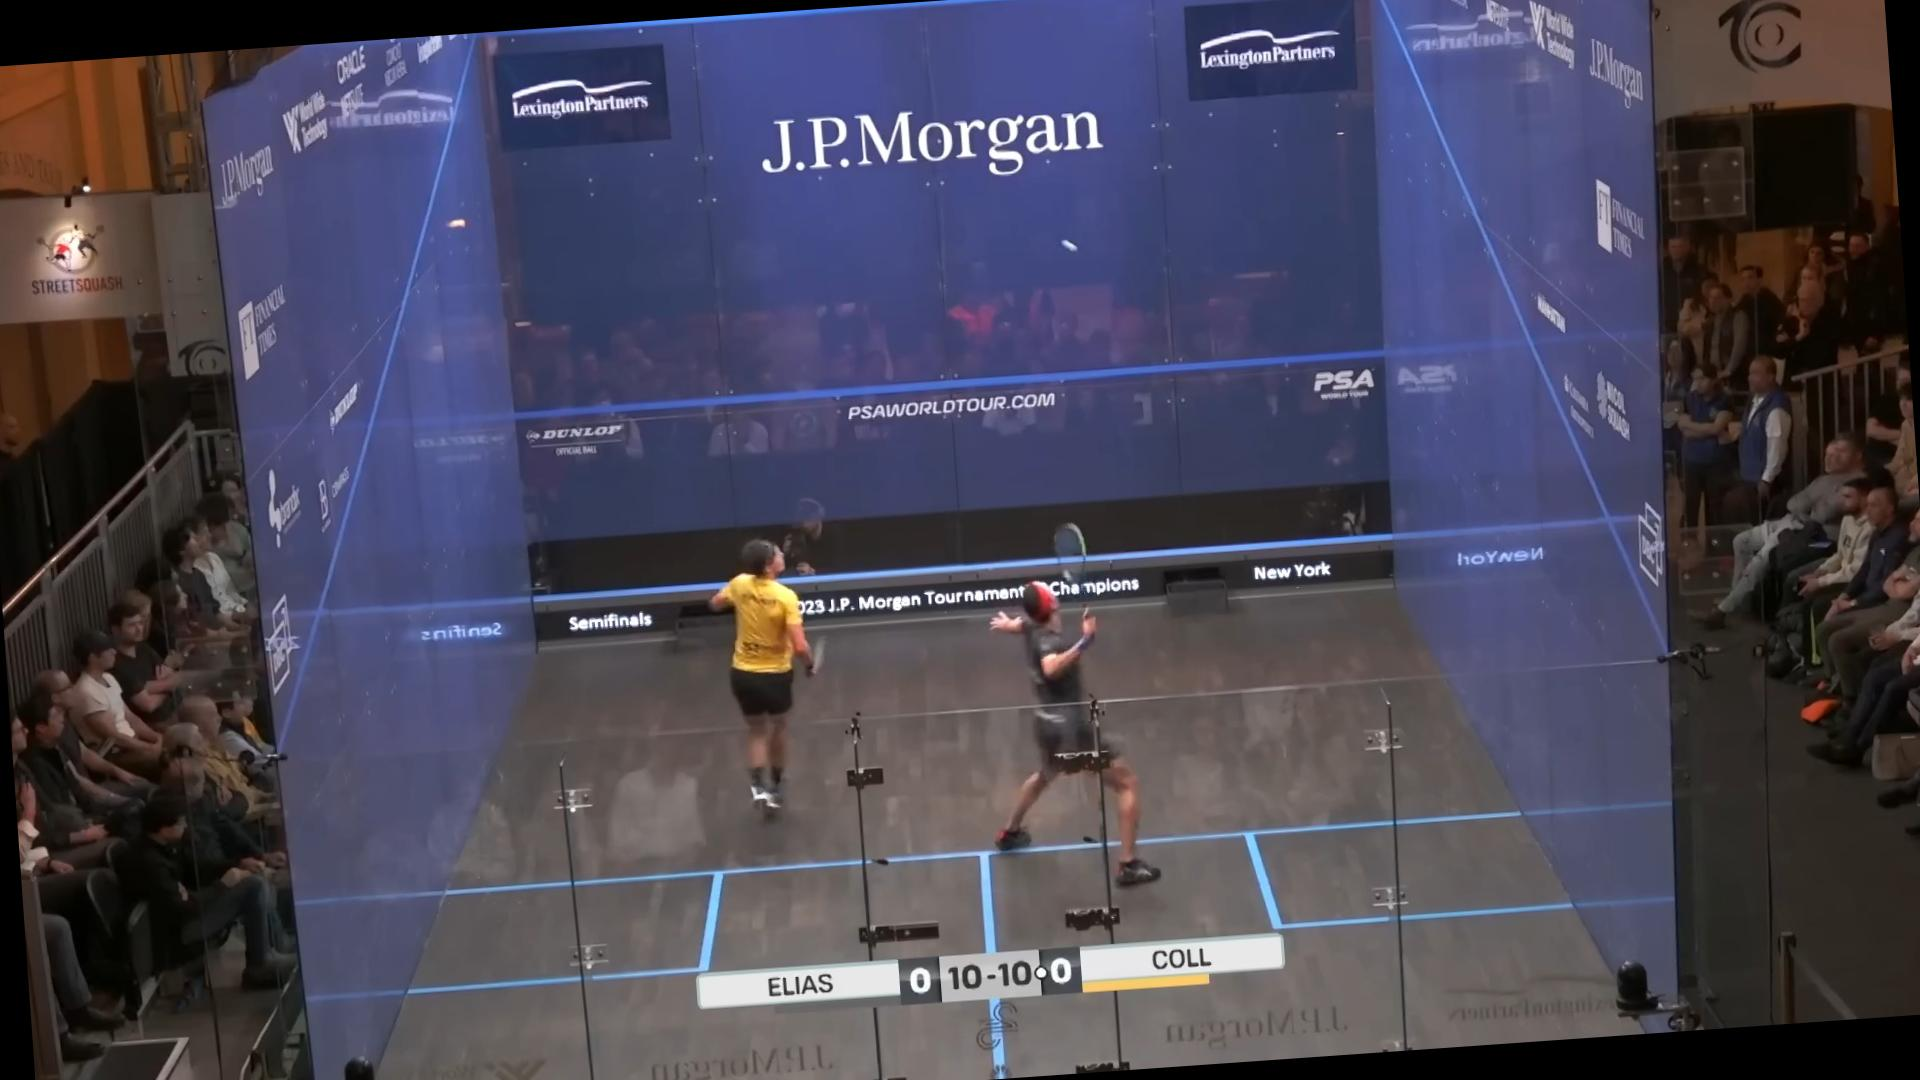Racket: (1052, 505, 1101, 632)
